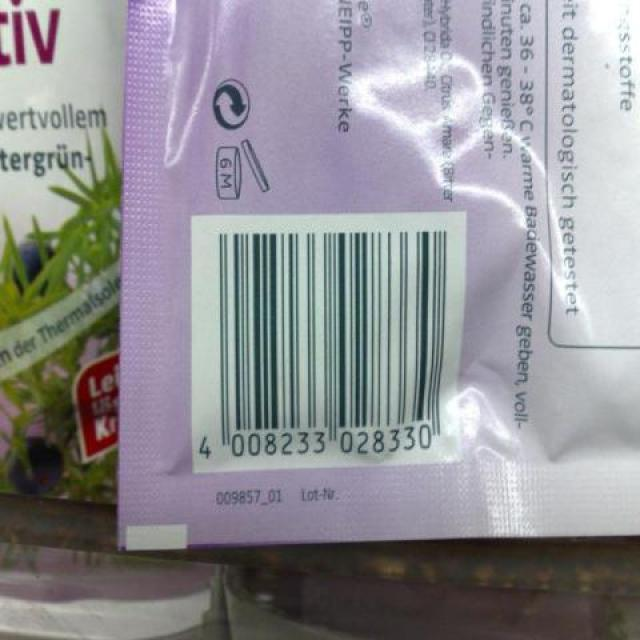Barcode: (192, 215, 468, 469)
